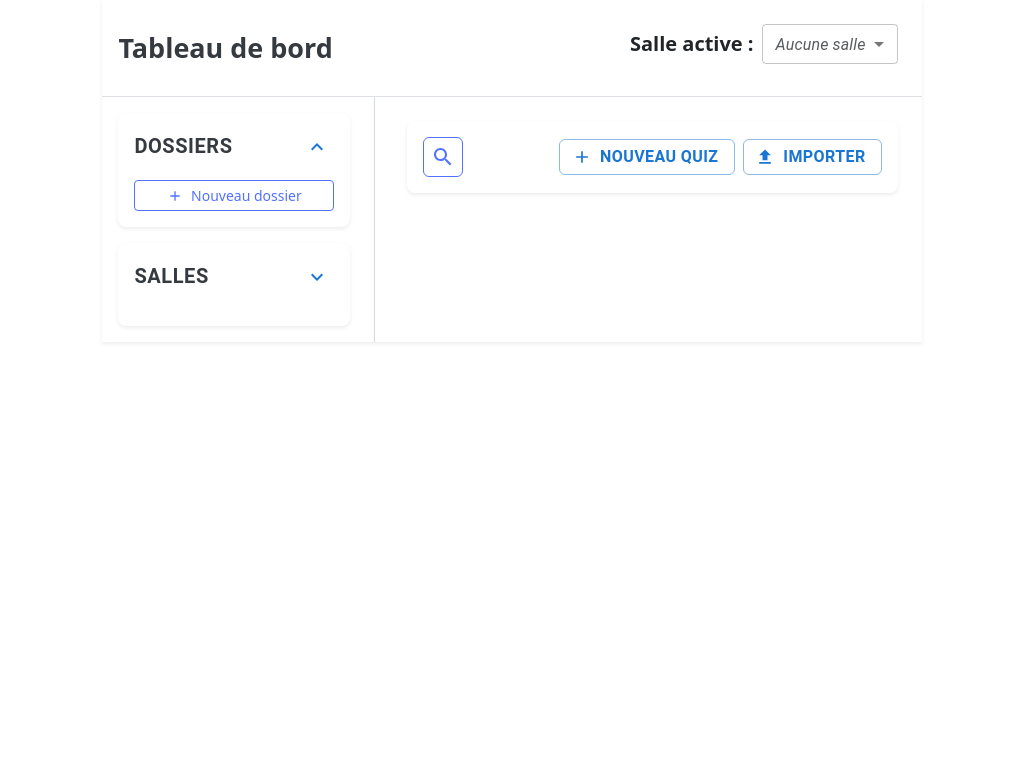
Test: DashboardV2 Component › Search Functionality › should show all quizzes when search term is empty
The image size is (1024, 768).
Click the button with test id "SearchIcon" at (444, 157), box [424,137,464,177]
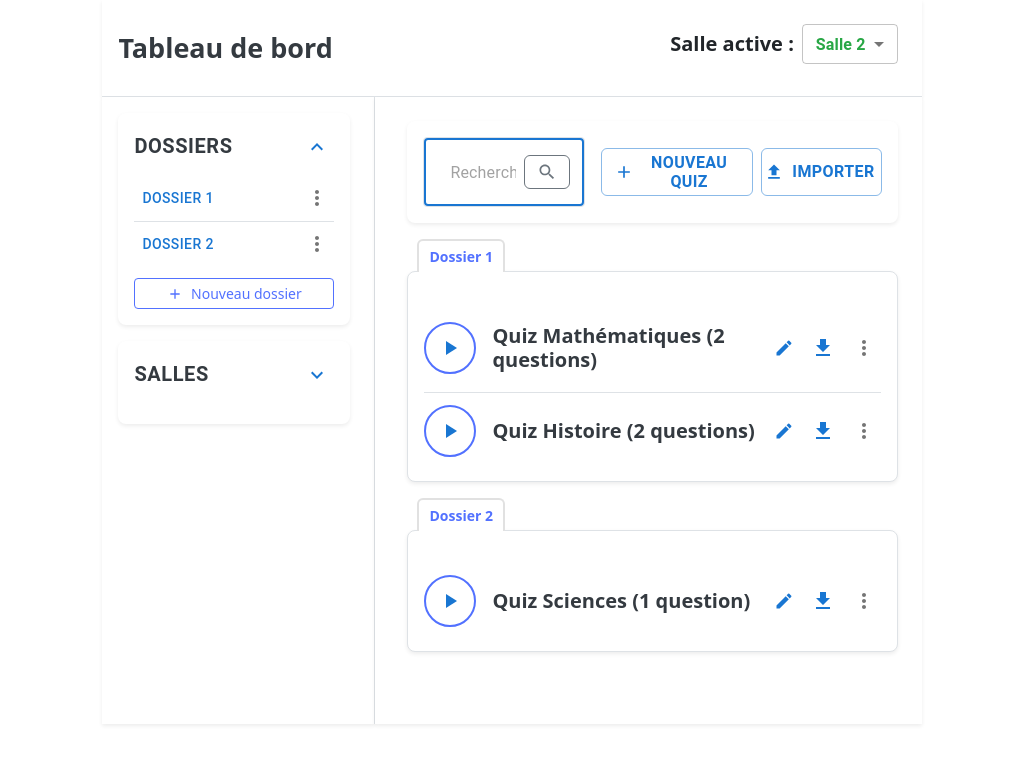
Type "Mathématiques" into the field with placeholder "Rechercher un quiz" at (476, 172), box [436,144,516,200]
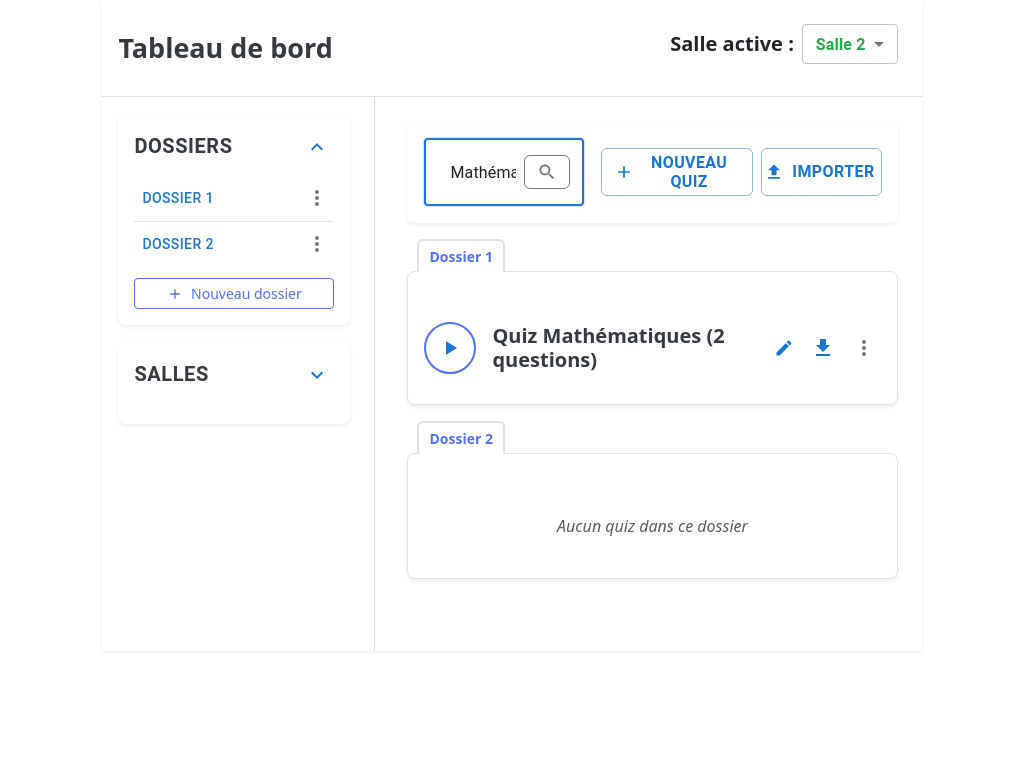
Clear the field with placeholder "Rechercher un quiz" at (476, 172), box [436,144,516,200]
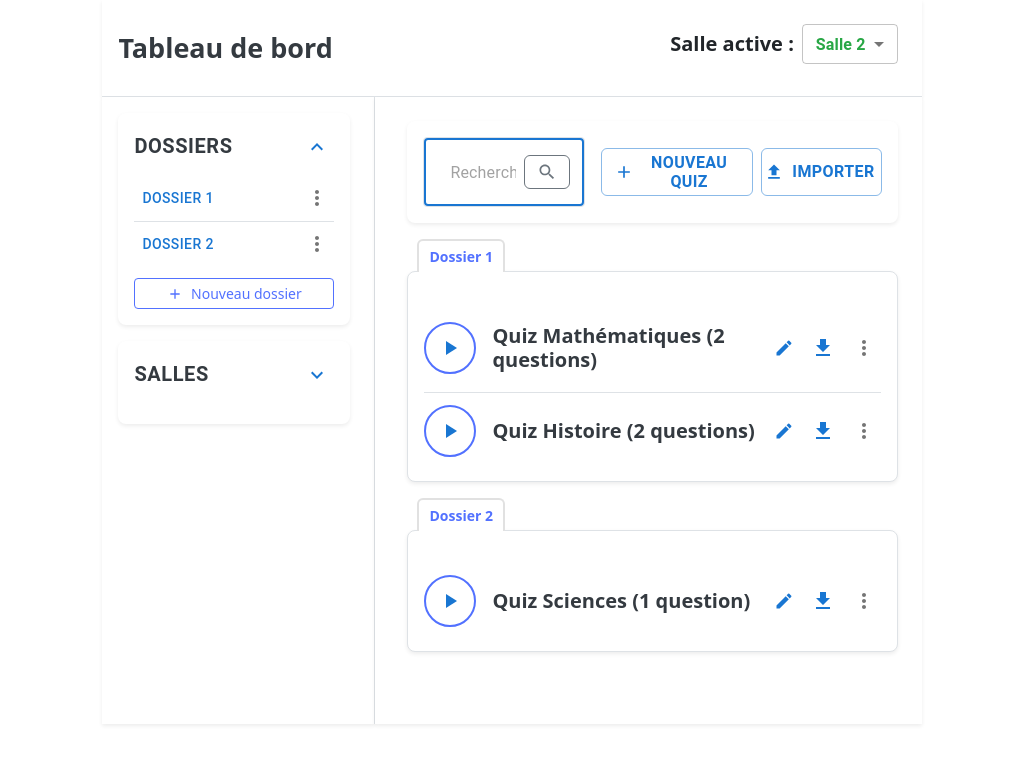
Now the text "Quiz Mathématiques (2 questions)" is shown, box [492,322,725,373]
Now the text "Quiz Histoire (2 questions)" is shown, box [492,411,755,443]
Now the text "Quiz Sciences (1 question)" is shown, box [492,581,750,613]
